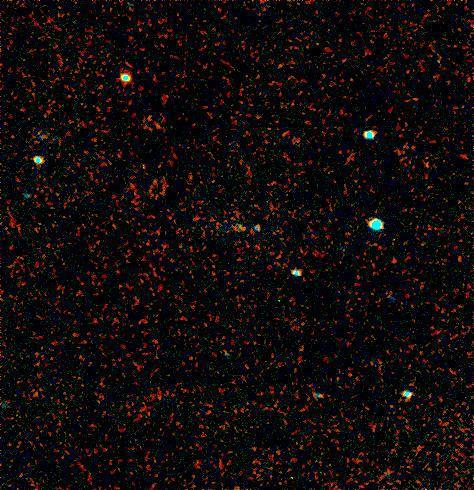star: (225, 215, 255, 245)
